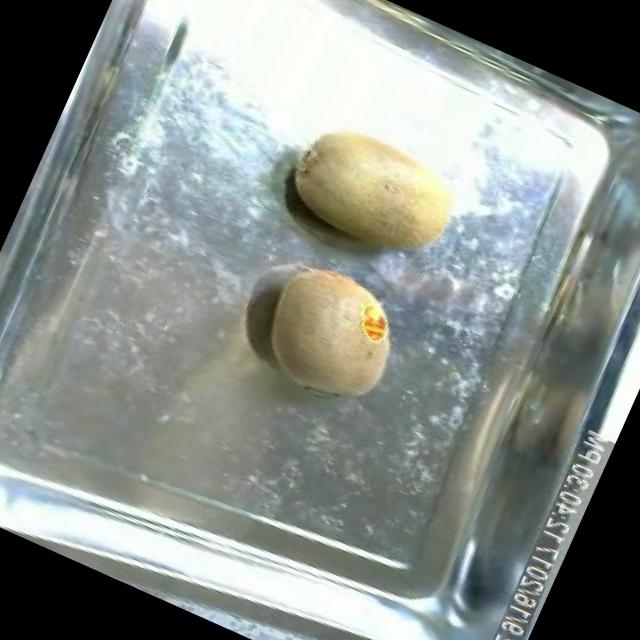Fruit: (266, 97, 482, 284), (238, 240, 425, 423)
